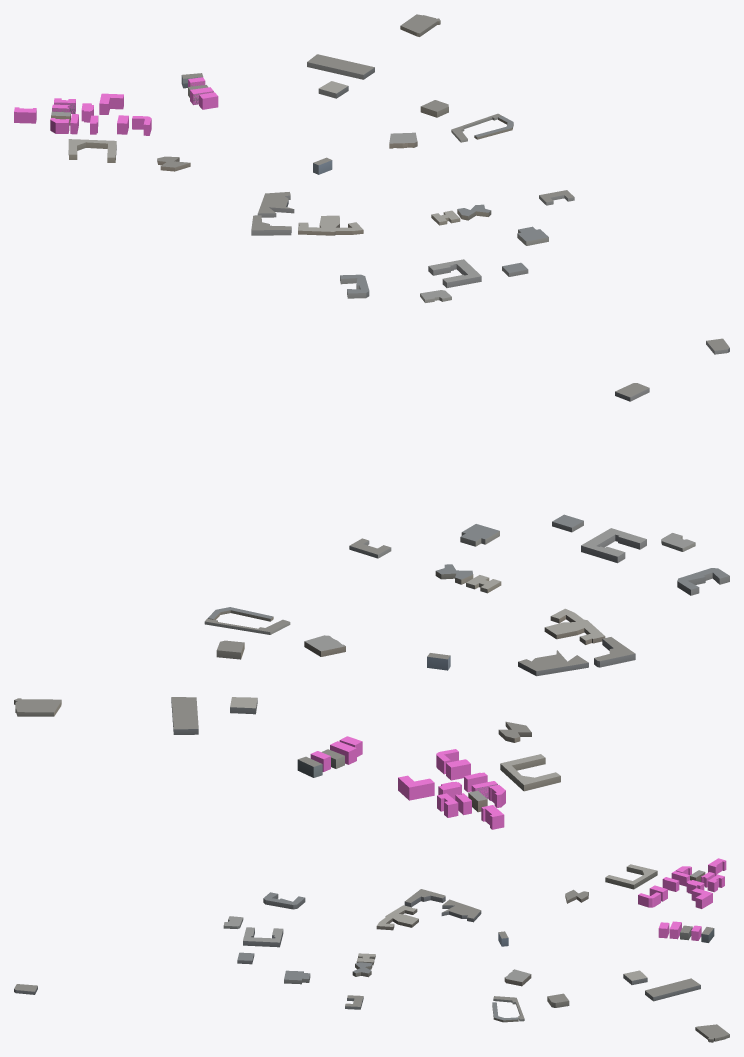
File: bld_19_8.fbx
The picture shows the model from 3 angles, top to bottom: view 1: azimuth 30°, elevation 25°; view 2: azimuth 150°, elevation 25°; view 3: azimuth 270°, elevation 25°; orthographic projection. The views are drawn at different scales.
Visible parts, largest first — view 1: bld_19_8_LOD0, bld_19_8_COL; view 2: bld_19_8_LOD0, bld_19_8_COL; view 3: bld_19_8_LOD0, bld_19_8_COL.
Part boxes in pixels (x1,y1,x2,y2): bld_19_8_LOD0: (51,14,729,354); bld_19_8_COL: (14,77,218,135); bld_19_8_LOD0: (14,383,729,812); bld_19_8_COL: (310,736,505,829); bld_19_8_LOD0: (14,864,729,1042); bld_19_8_COL: (638,858,726,940).
Size of what is drawn, in the model's own units: 1074 by 27.11 by 1856.
